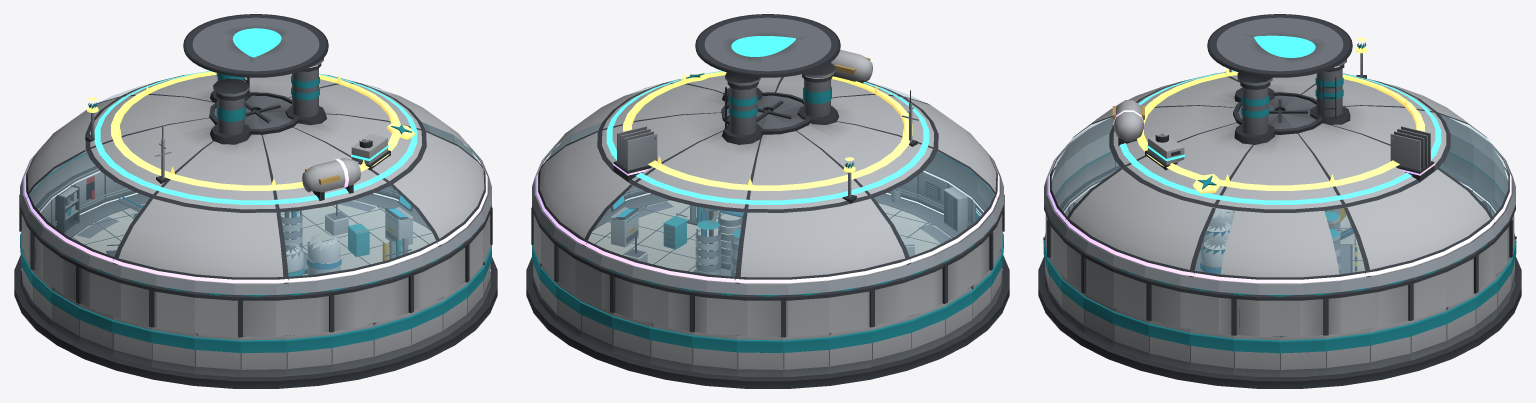
File: oxygen_plant_l_far.glb
The picture shows the model from 3 angles, left to right: view 1: azimuth 30°, elevation 25°; view 2: azimuth 150°, elevation 25°; view 3: azimuth 270°, elevation 25°; orthographic projection.
Parts seen in each view (by area): view 1: Roof, Base, L2, Interior, L4, L3, L5; view 2: Roof, Base, L2, Interior, L4, L5, L3; view 3: Roof, Base, L2, L4, L5, L3, Interior.
Part boxes in pixels (box(x1,y1,x2,y2)): Roof: box(19, 14, 492, 337); Base: box(14, 166, 497, 388); L2: box(20, 126, 491, 294); Interior: box(77, 195, 412, 276); L4: box(24, 158, 487, 283); L3: box(94, 71, 417, 204); L5: box(85, 71, 414, 190); Roof: box(531, 14, 1004, 337); Base: box(526, 166, 1009, 388); L2: box(532, 90, 1003, 294); Interior: box(608, 195, 950, 276); L4: box(536, 49, 999, 283); L5: box(623, 71, 912, 203); L3: box(606, 71, 929, 204); Roof: box(1044, 14, 1515, 336); Base: box(1038, 166, 1521, 388); L2: box(1044, 69, 1515, 294); L4: box(1048, 100, 1511, 283); L5: box(1137, 37, 1424, 193); L3: box(1119, 71, 1441, 204); Interior: box(1194, 207, 1357, 274).
Size of the model in its own units: 14.15 by 7.83 by 14.15.
